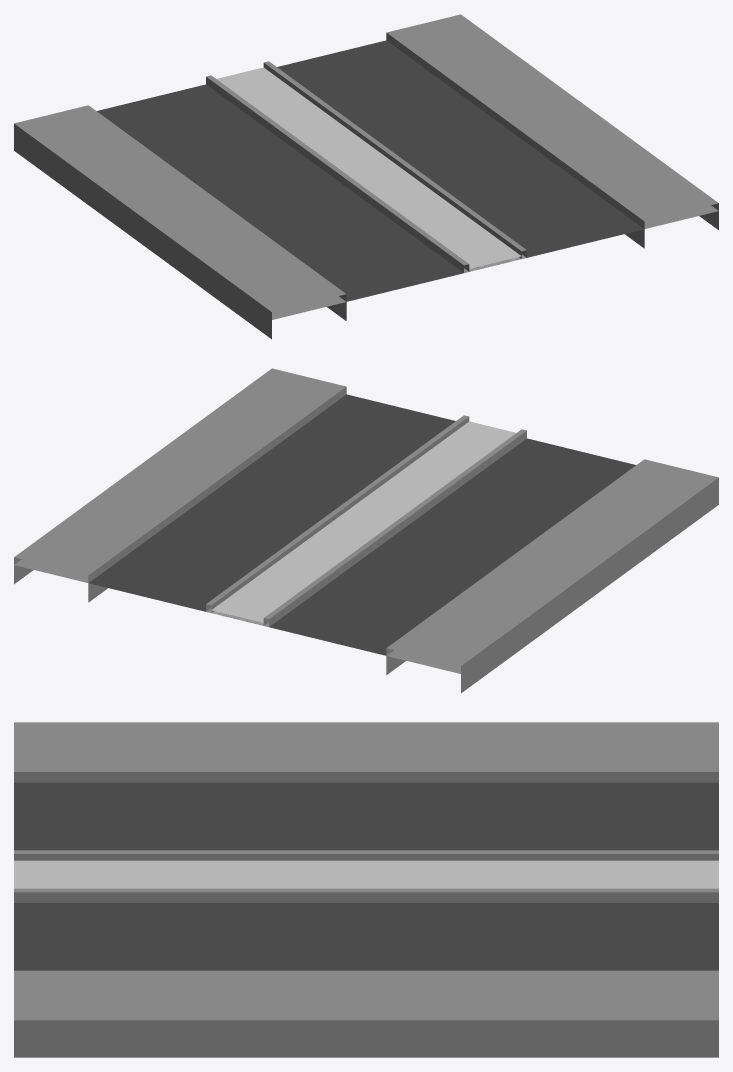
3 views of the same model, one above another, from view 1: azimuth 30°, elevation 25°; view 2: azimuth 150°, elevation 25°; view 3: azimuth 270°, elevation 25° (orthographic). The views are drawn at different scales.
Parts seen in each view (by area): view 1: Model_0, Skybox, Grass; view 2: Model_0, Skybox, Grass; view 3: Model_0, Grass, Skybox.
Part boxes in pixels (<box>): Model_0: <box>14,14,718,339</box>; Skybox: <box>97,87,718,319</box>; Grass: <box>217,67,521,268</box>; Model_0: <box>14,368,718,693</box>; Skybox: <box>14,440,630,673</box>; Grass: <box>211,421,515,622</box>; Model_0: <box>14,722,718,1057</box>; Grass: <box>14,860,718,888</box>; Skybox: <box>25,782,718,850</box>.
Size of what is drawn, in the model's own units: 2400 by 140 by 2400.
